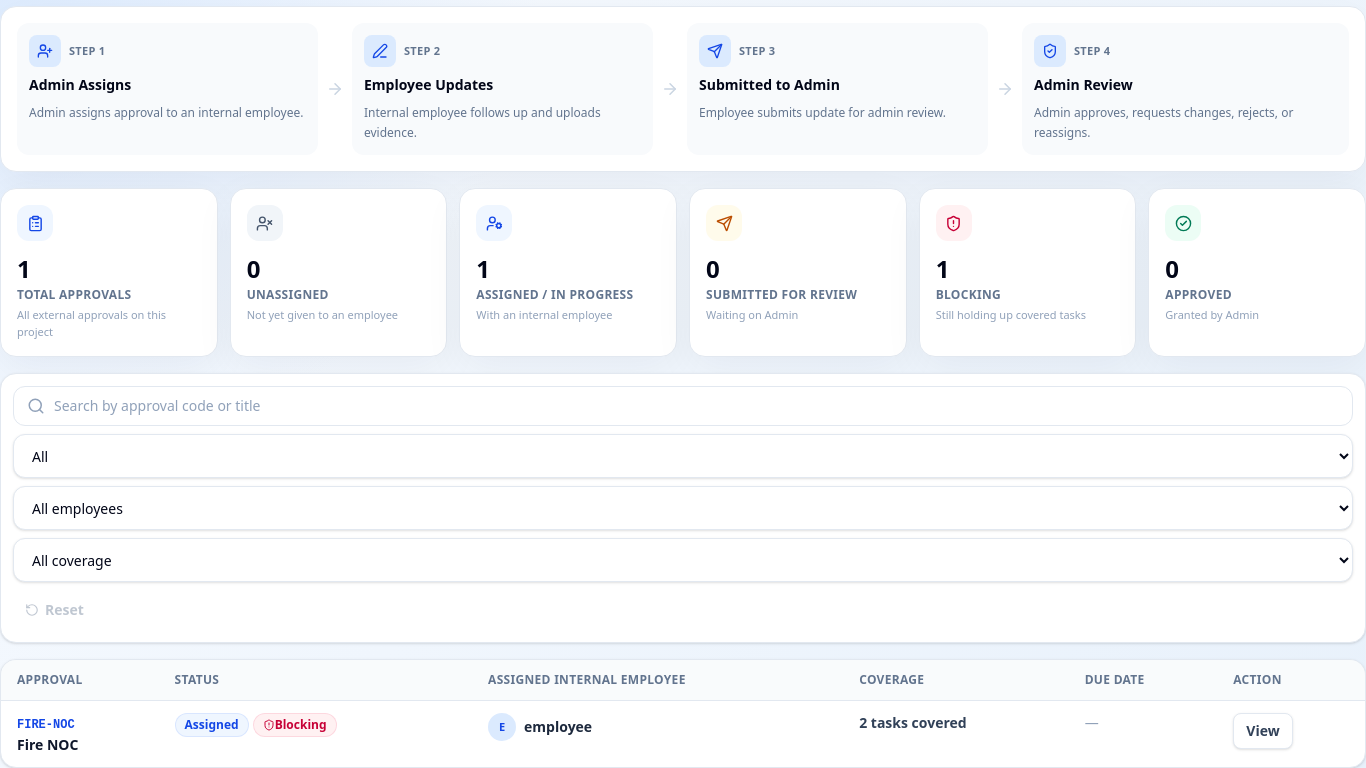
Scenario: ExternalApprovalsPanel › offers Reassign and Unassign inside the panel of an assigned approval, not Assign
(page scrolled)
Click the text "FIRE-NOC": (46, 725) [17,718,75,732]
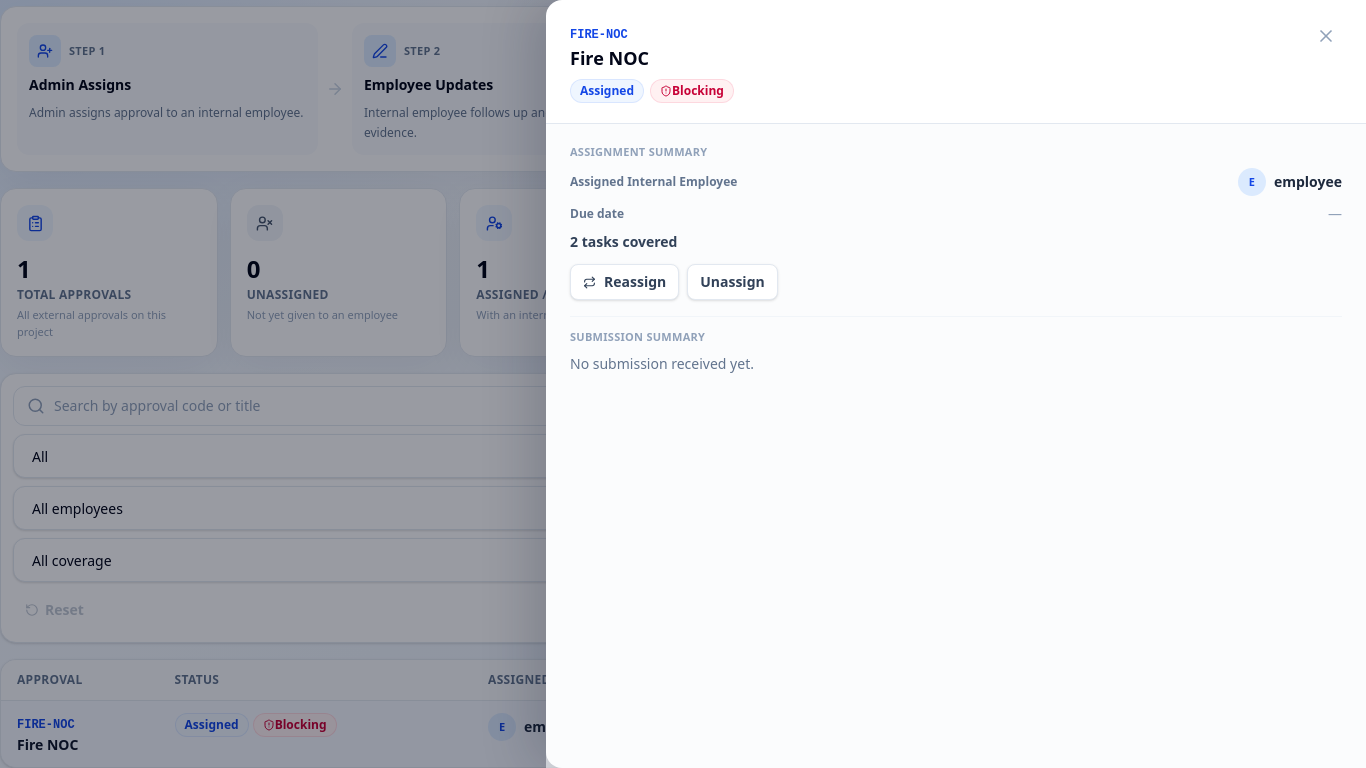
Now the button "Reassign" is shown, box [570,264,679,300]
Now the button "Unassign" is shown, box [687,264,778,300]
